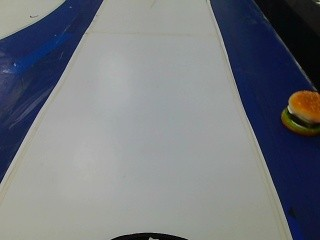burger: (279, 90, 318, 135)
